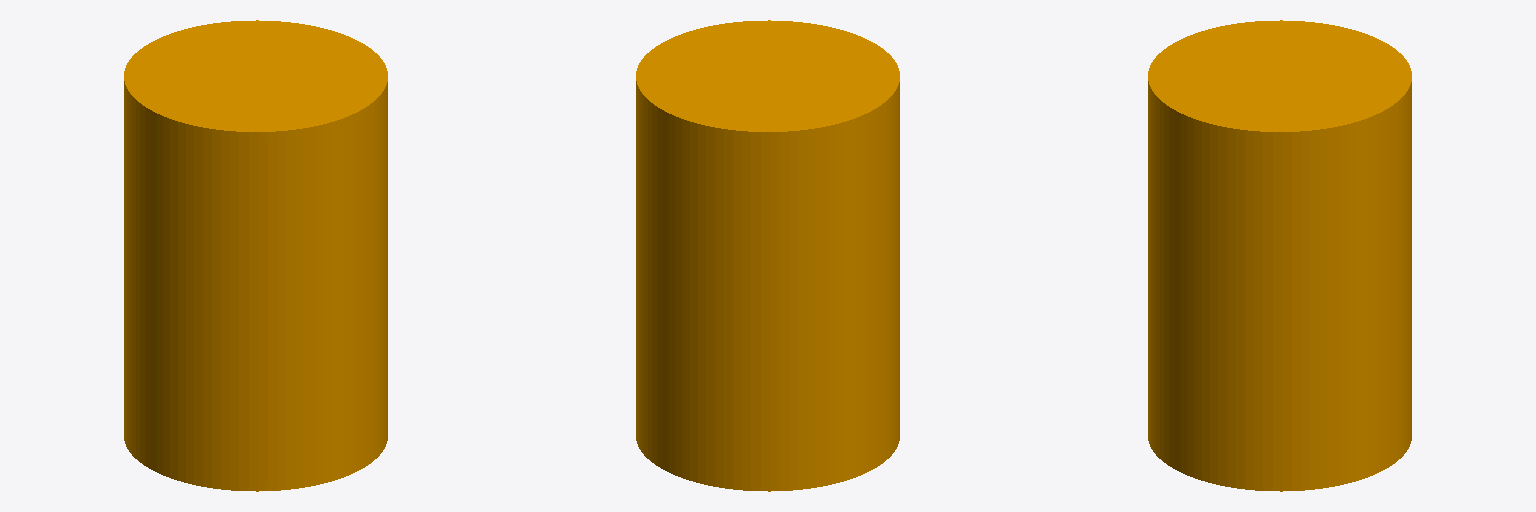
robot.urdf — factory_round_peg_16mm_loose:
<?xml version="1.0"?>
<robot name="factory_round_peg_16mm_loose">
    <link name="factory_round_peg_16mm_loose">
        <visual>
            <origin xyz="0 0 0.0254" rpy="1.57079632679 0 1.57079632679"/>
            <geometry>
                <mesh filename="../mesh/factory_insertion/2inBrightYellowCylinder.obj"/>
            </geometry>
        </visual>
        <collision>
         <origin xyz="0 0 0.0254" rpy="1.57079632679 0 1.57079632679"/>
            <geometry>
                <mesh filename="../mesh/factory_insertion/2inBrightYellowCylinder.obj"/>
            </geometry>
            <!-- sdf resolution="256" -->
        </collision>
    </link>
</robot>

--- What the picture shows (computed from the rendered views, not written in the file) ---
The picture shows the robot from 3 angles, left to right: view 1: azimuth 30°, elevation 25°; view 2: azimuth 150°, elevation 25°; view 3: azimuth 270°, elevation 25°; orthographic projection.
Model factory_round_peg_16mm_loose with 1 links and 0 joints (none), rooted at factory_round_peg_16mm_loose, posed every joint at zero.
Links seen in each view (by area): view 1: factory_round_peg_16mm_loose; view 2: factory_round_peg_16mm_loose; view 3: factory_round_peg_16mm_loose.
Link boxes in pixels (box(x1,y1,x2,y2)): factory_round_peg_16mm_loose: box(124, 20, 387, 491); factory_round_peg_16mm_loose: box(636, 20, 899, 491); factory_round_peg_16mm_loose: box(1148, 20, 1411, 491).
Size in the robot's own frame: 0.0508 by 0.0508 by 0.0762 metres.
1 mesh visuals loaded from 1 distinct referenced files (1 OBJ).
